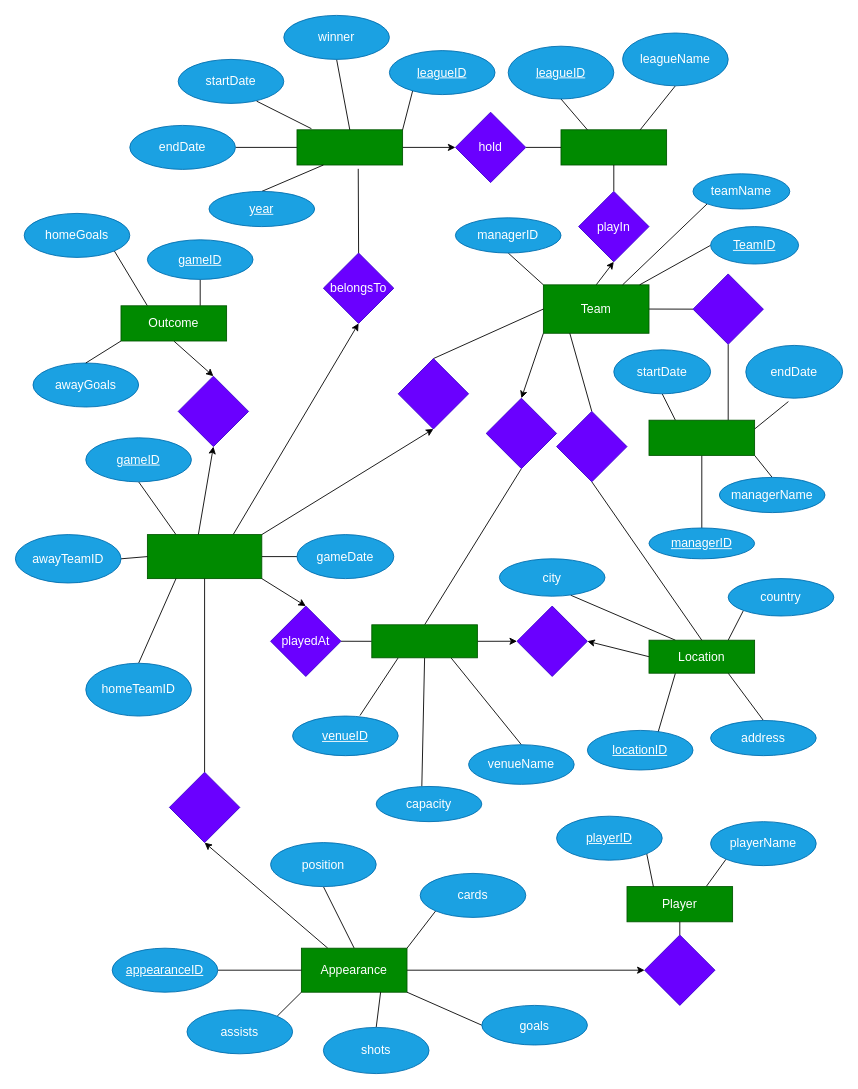
The diagram is 858 pixels wide and 1089 high, and some of its shapes have lost their labels. Here are the shapes that lost their labels. From the top down, the centre of each, then its label:
[349,147]: Season
[613,147]: League
[727,308]: coach
[213,411]: resultsIn
[433,393]: appearIn
[521,433]: hostAt
[591,446]: practiceAt
[701,437]: Manager
[204,556]: Game
[424,641]: Venue
[551,640]: locatedAt
[204,807]: constitute
[679,969]: make
